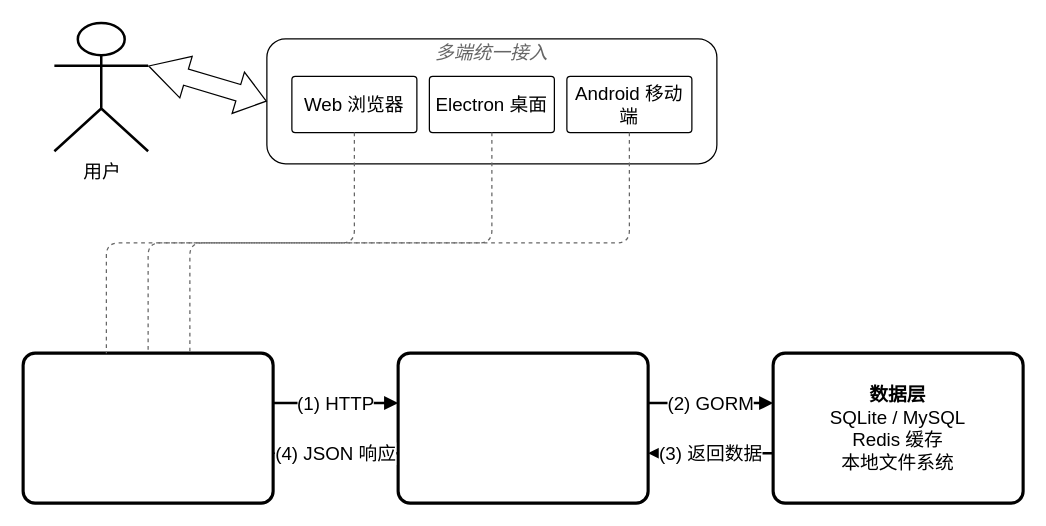
Image size: 1046x526. Some labels were removed from this diagram. Here are the shapes that lost their labels. From the top down, the box of each, then its label:
(21, 351, 274, 504): 表现层（前端） Vue 3 + TypeScript 界面渲染 / 用户交互 Pinia 状态管理
(396, 351, 649, 504): 控制层（后端） Go + Gin RESTful API / JWT 鉴权 参数校验 / 业务逻辑
